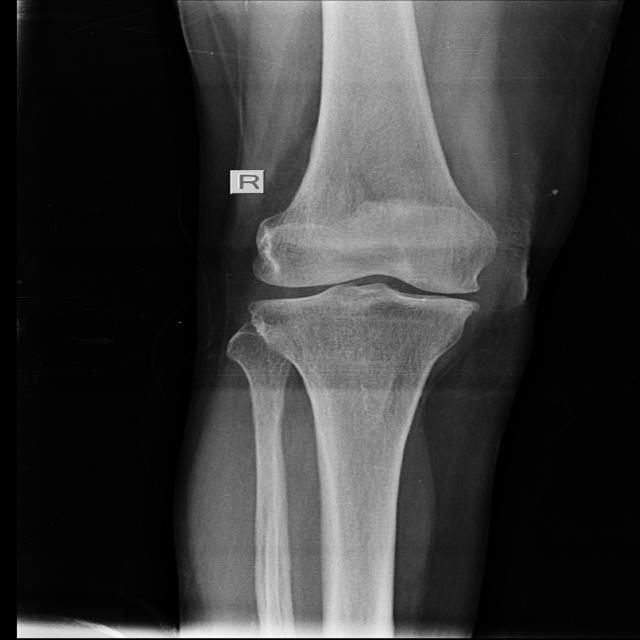osteo: (248, 206, 504, 346)
